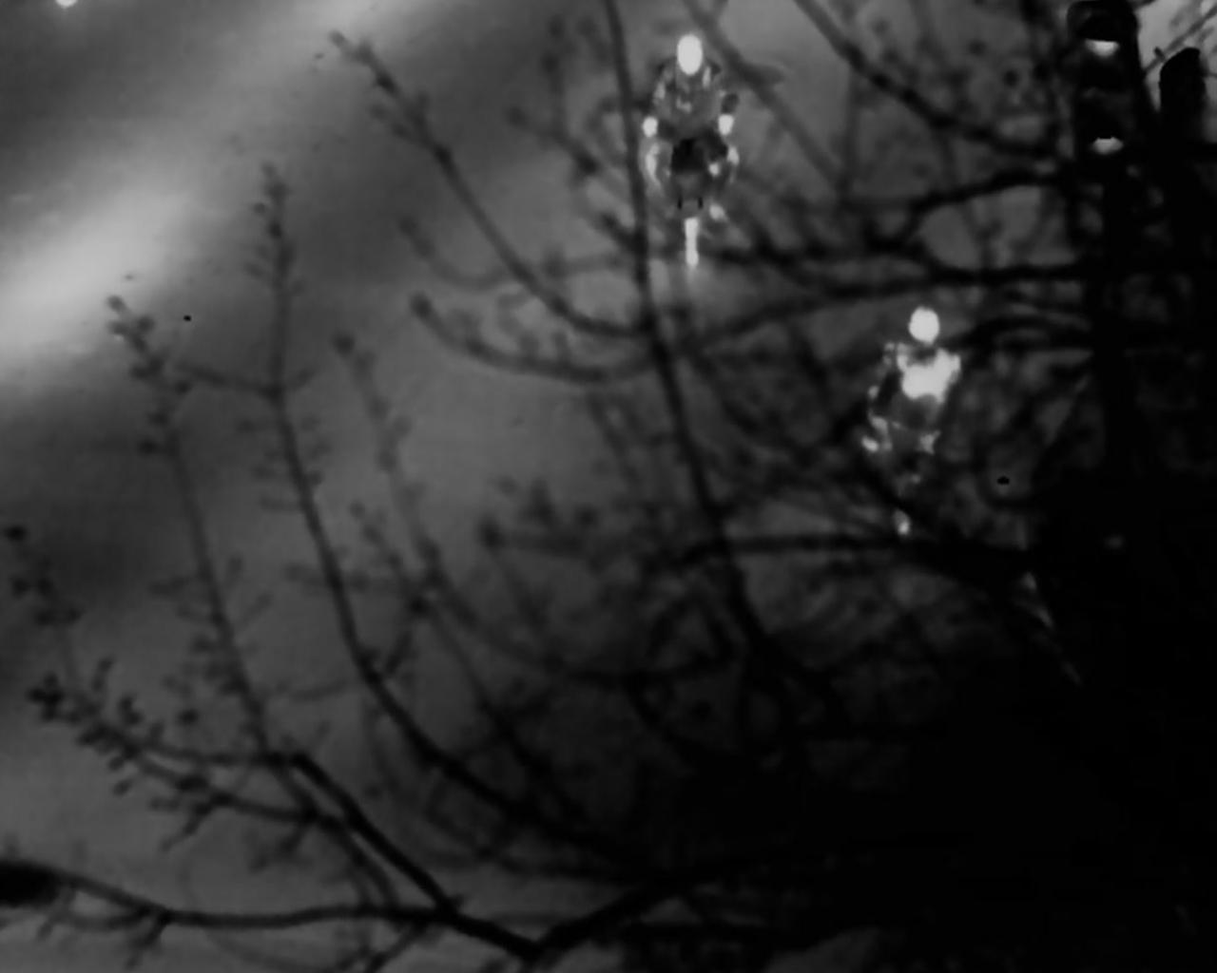person: (645, 28, 746, 254), (881, 303, 974, 461)
